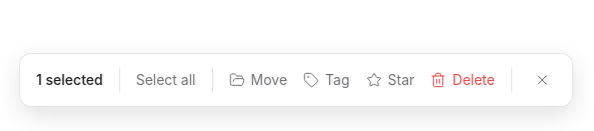
Scenario: SelectionToolbar › shows No tags message when tags array is empty
Click the button "Tag".
click(326, 80)  # box [303,70,350,90]
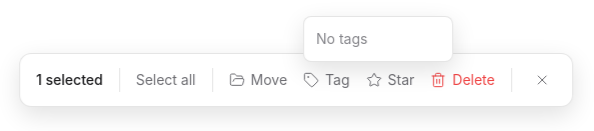
Expected: the text "No tags" is shown, [316,30,368,47]
